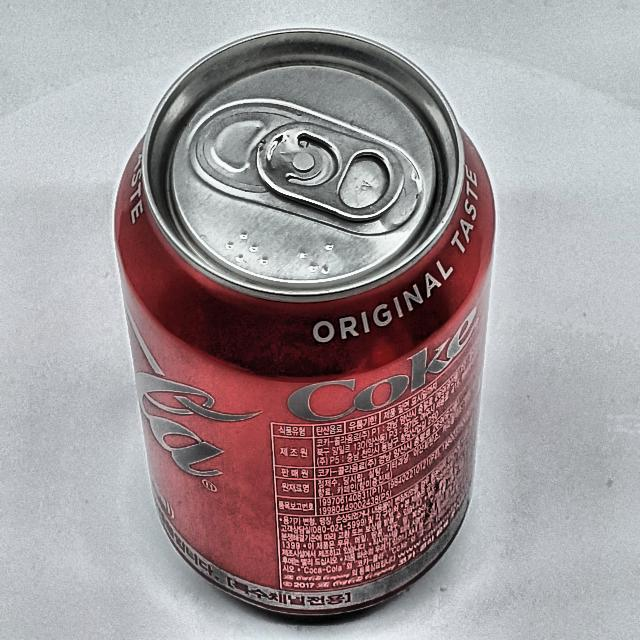cocacola: (115, 30, 495, 615)
